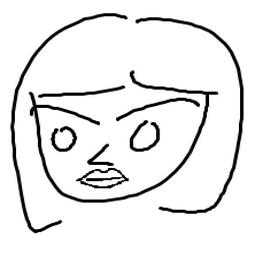cupid_mouth: (71, 165, 135, 191)
empty_eye: (122, 117, 166, 155), (45, 121, 79, 155)
frowning_eyebrow: (114, 96, 202, 122), (24, 104, 99, 125)
pointy_nose: (87, 138, 119, 166)
